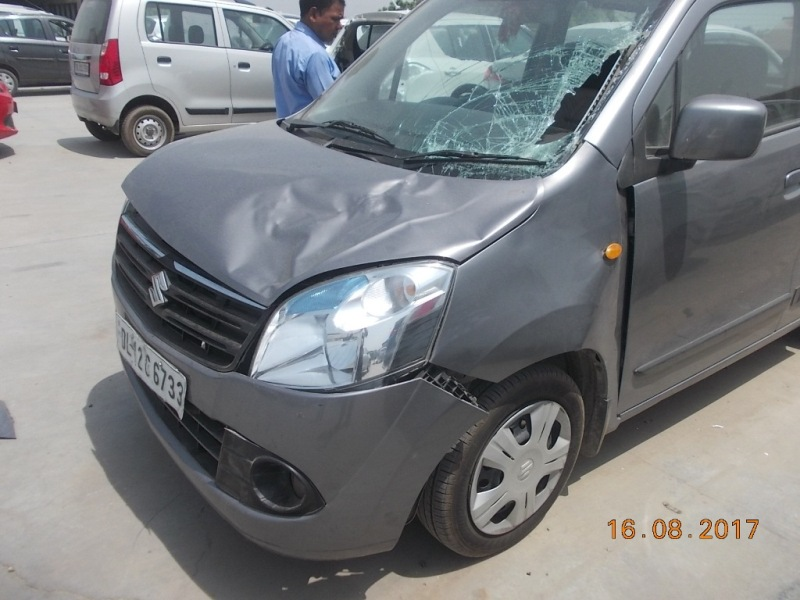Shatter: (107, 358, 397, 588), (422, 326, 601, 596), (606, 390, 668, 588), (0, 375, 71, 541)
